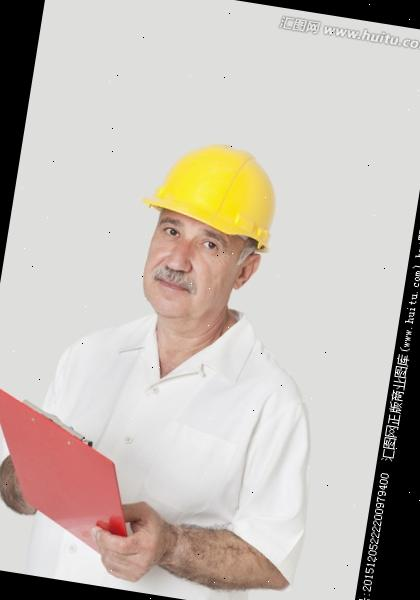helmet: (135, 133, 292, 256)
no_wear: (40, 322, 330, 480)
